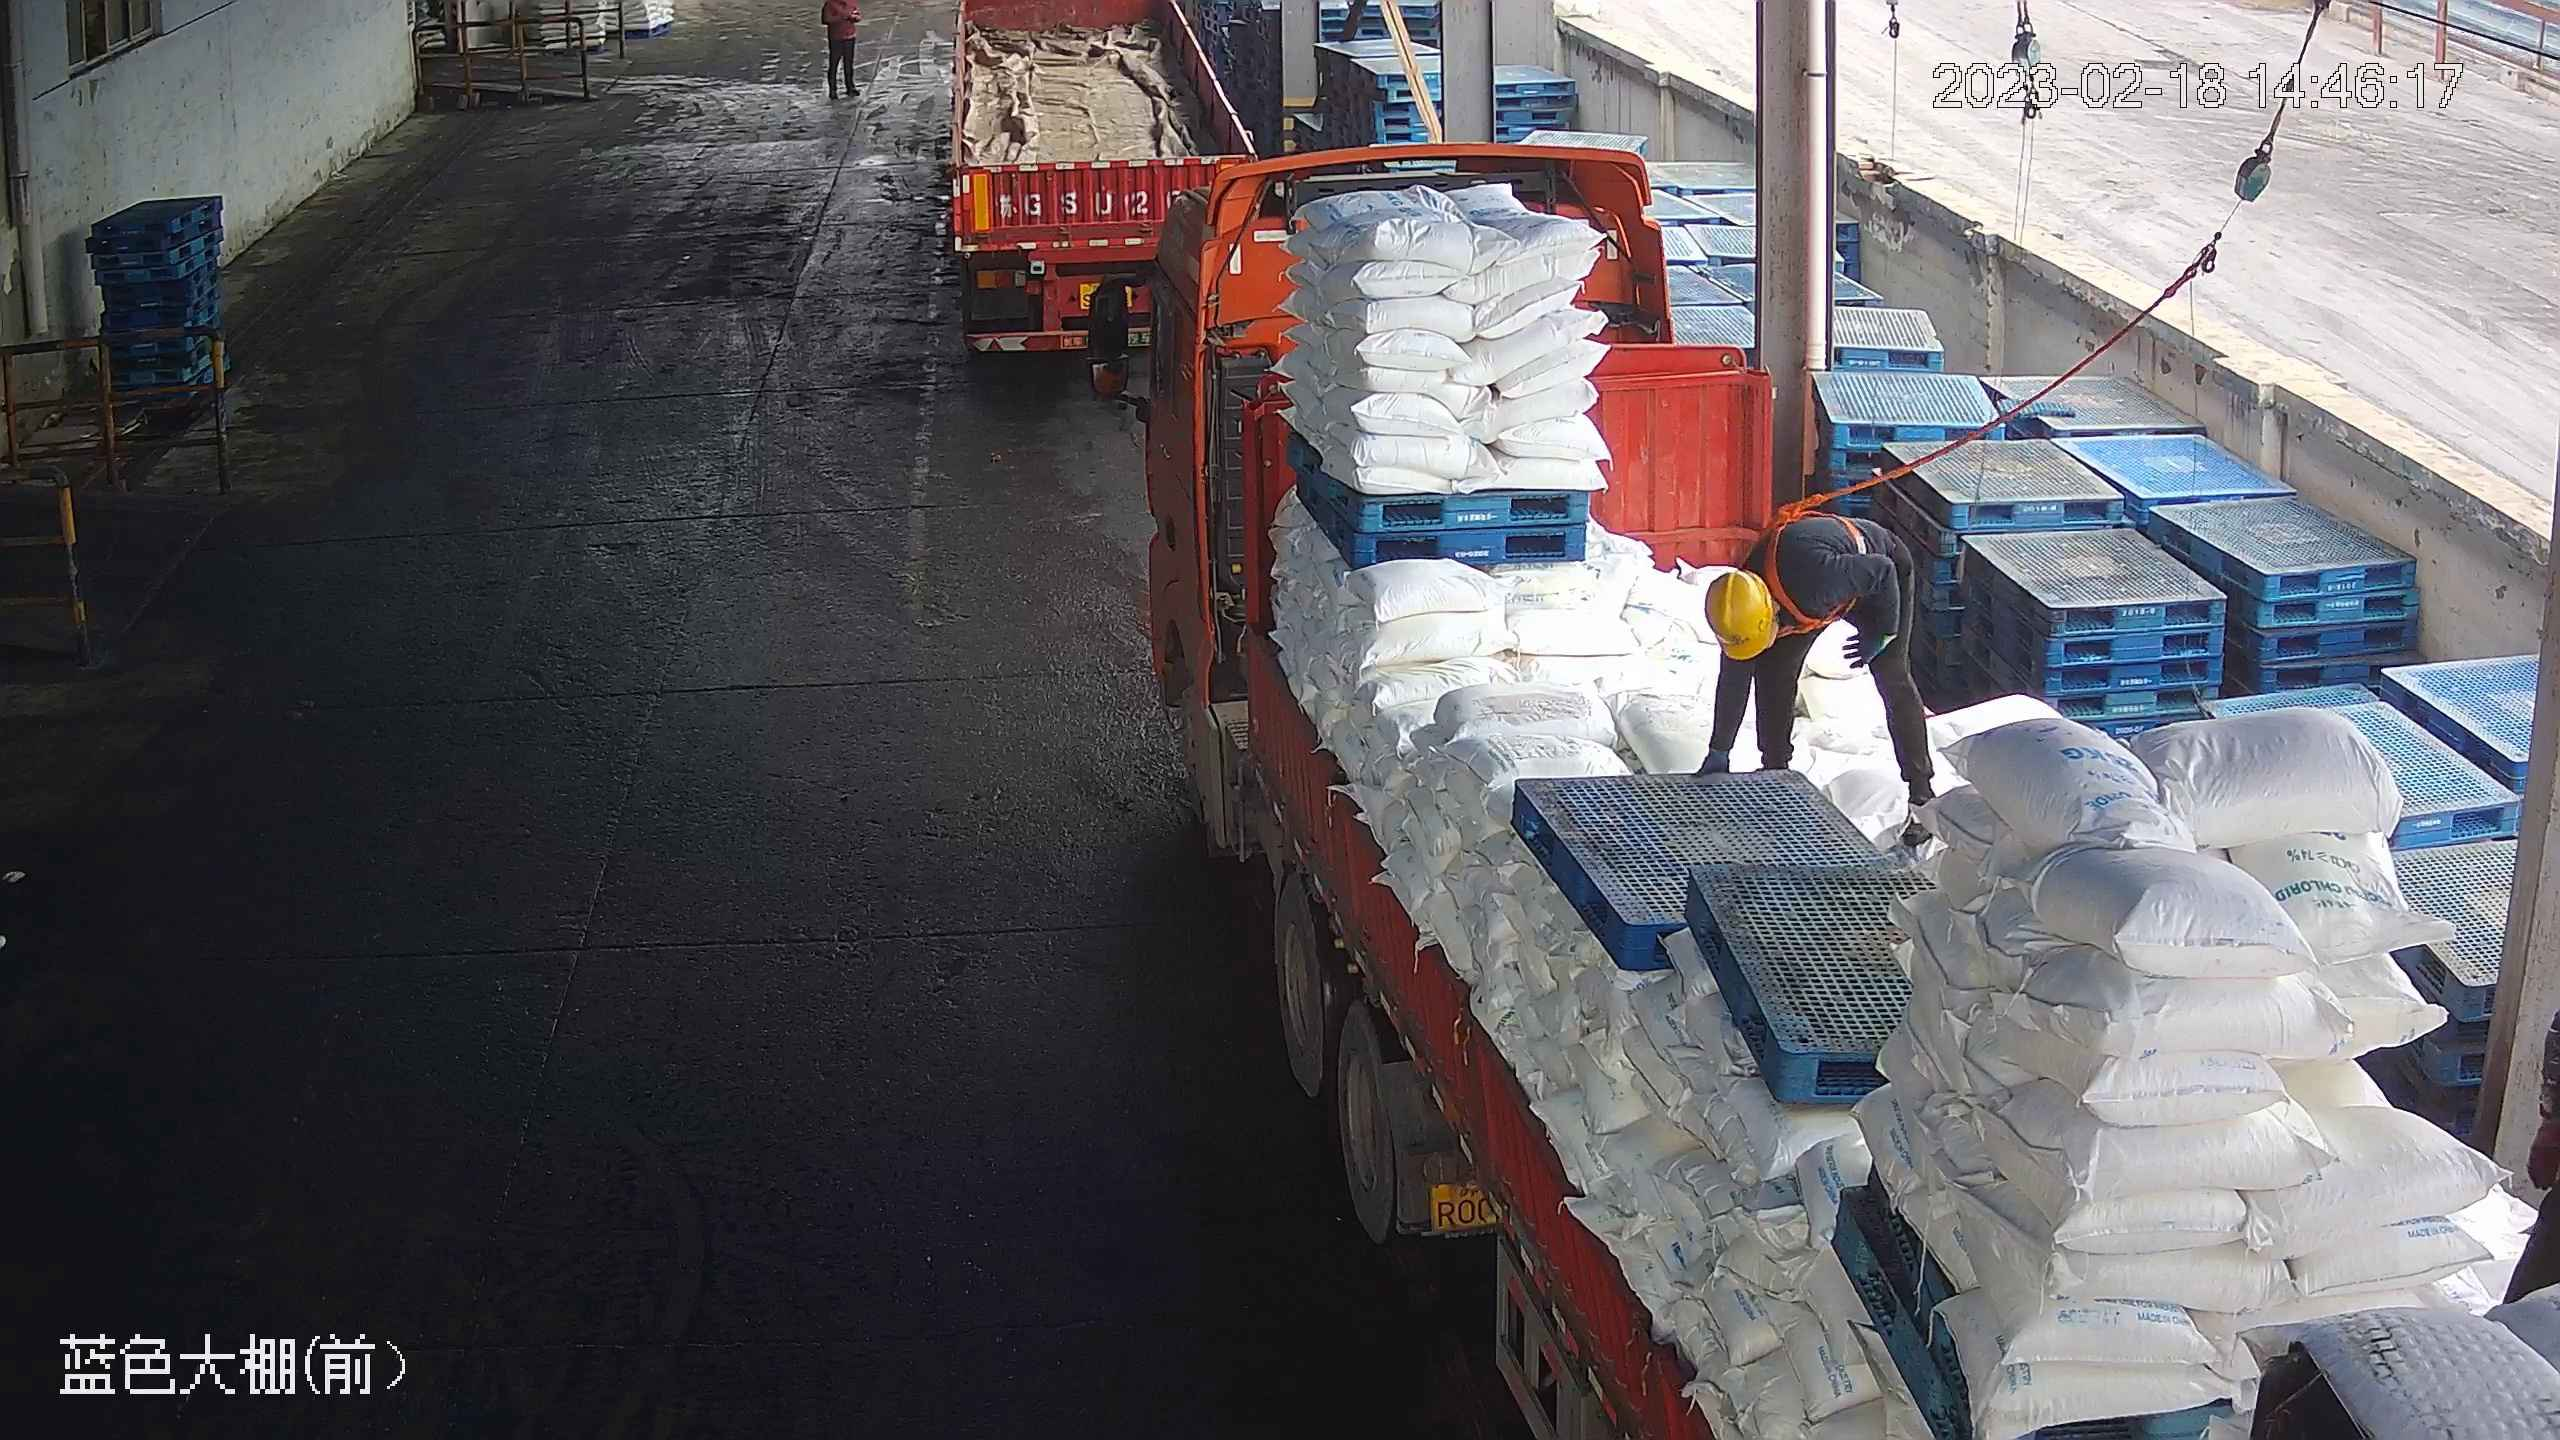belt: (1752, 486, 1872, 631)
head: (1695, 541, 1852, 659)
helmet: (1701, 567, 1780, 658)
people: (1697, 506, 1950, 846)
truck: (1088, 141, 2555, 1440), (947, 2, 1262, 356)
